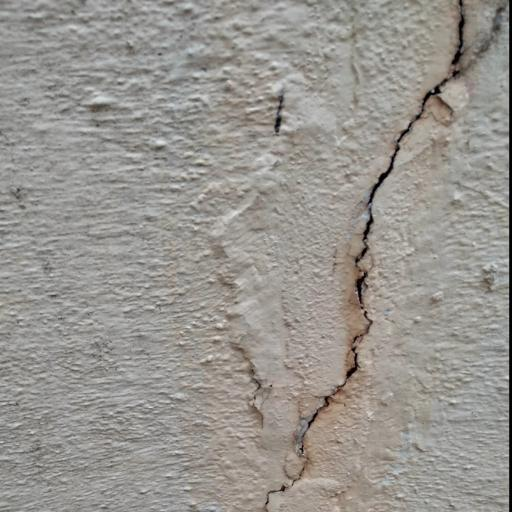major_crack: (247, 0, 502, 512)
